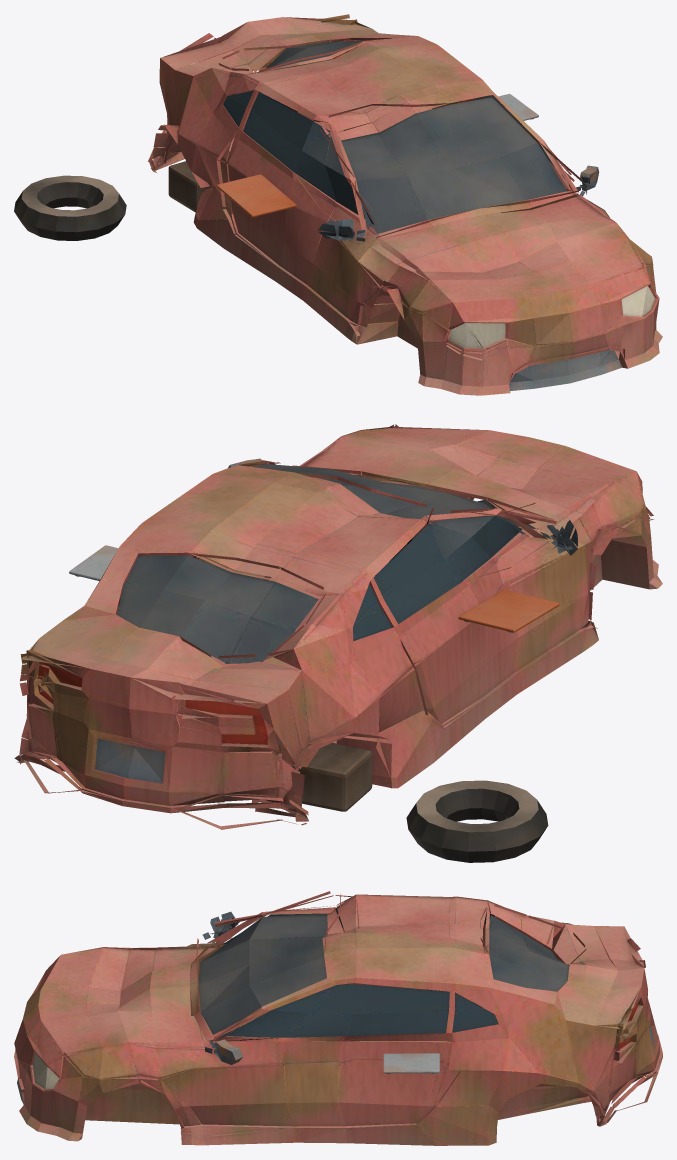
The model's file is scrap_car_d.glb.
The picture shows the model from 3 angles, top to bottom: view 1: azimuth 30°, elevation 25°; view 2: azimuth 150°, elevation 25°; view 3: azimuth 270°, elevation 25°; orthographic projection. The views are drawn at different scales.
Visible parts, largest first — view 1: ScrapCar_Mesh; view 2: ScrapCar_Mesh; view 3: ScrapCar_Mesh.
Part boxes in pixels (left/top/right/bottom): ScrapCar_Mesh: left=14, top=14, right=662, bottom=395; ScrapCar_Mesh: left=14, top=424, right=662, bottom=862; ScrapCar_Mesh: left=14, top=891, right=662, bottom=1145.
Bounding box in the file's own units: 2.89 × 1.07 × 3.92.
Materials: 1 (1 with a texture image).
